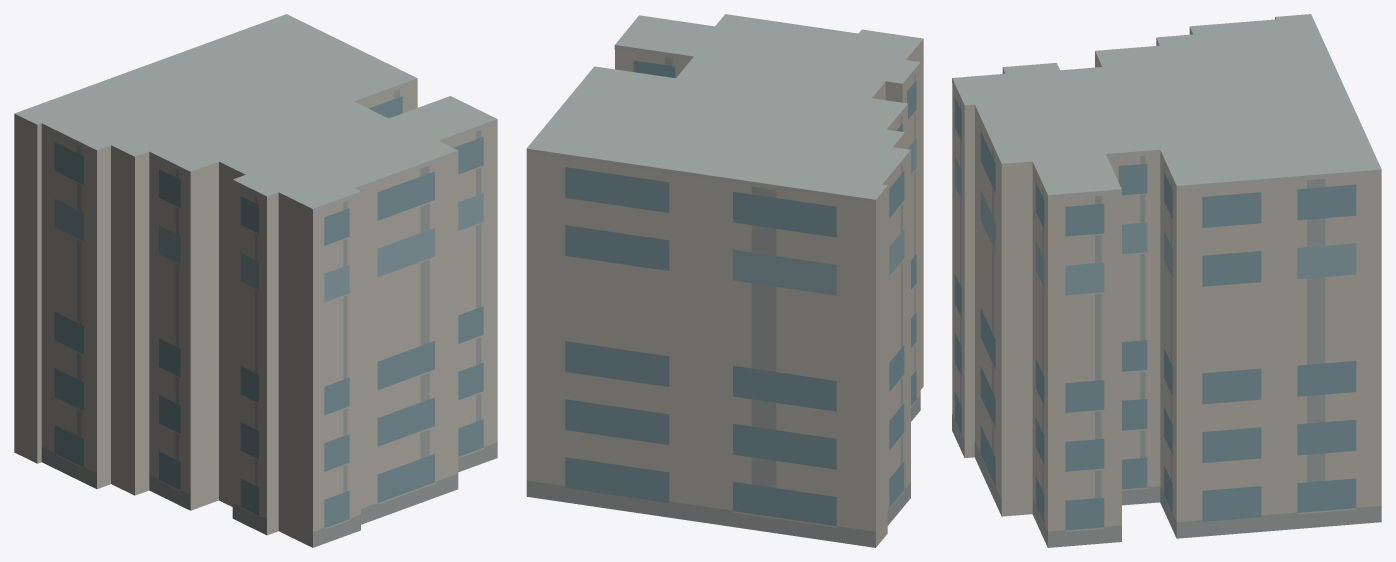
Rendered from survey-upis-32707540.glb.
3 views of the same model, side by side, from view 1: azimuth 30°, elevation 25°; view 2: azimuth 150°, elevation 25°; view 3: azimuth 270°, elevation 25° (orthographic). The views are drawn at different scales.
Parts seen in each view (by area): view 1: survey-upis-32707540.tmp; view 2: survey-upis-32707540.tmp; view 3: survey-upis-32707540.tmp.
Boxes of the visible parts, x1,y1,x2,y2 form: survey-upis-32707540.tmp: [14, 14, 497, 547]; survey-upis-32707540.tmp: [526, 14, 923, 547]; survey-upis-32707540.tmp: [952, 14, 1381, 547].
Size of the model in its own units: 19.51 by 17.7 by 19.55.
